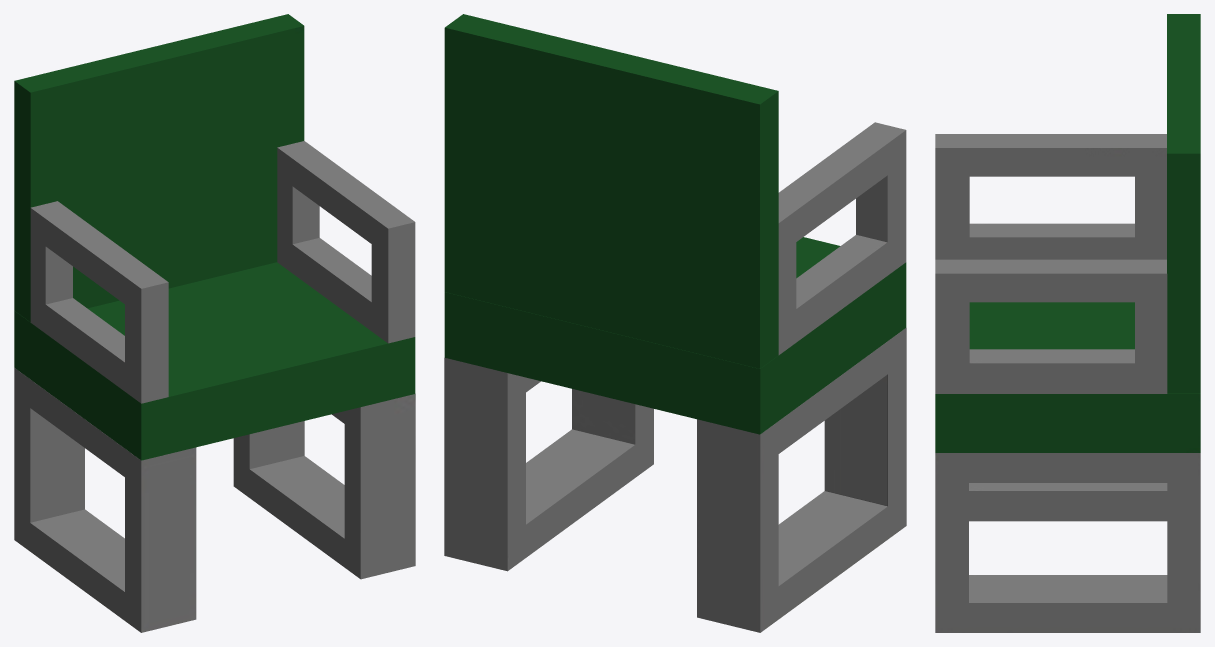
The model's file is cad_01.FBX.
3 views of the same model, side by side, from view 1: azimuth 30°, elevation 25°; view 2: azimuth 150°, elevation 25°; view 3: azimuth 270°, elevation 25° (orthographic). The views are drawn at different scales.
Parts seen in each view (by area): view 1: Cad_01; view 2: Cad_01; view 3: Cad_01.
Boxes of the visible parts, left/top/right/bottom form: Cad_01: left=14, top=14, right=415, bottom=632; Cad_01: left=444, top=14, right=906, bottom=632; Cad_01: left=935, top=14, right=1200, bottom=632.
Size of the model in its own units: 100 by 160 by 80.23.
1 material, 1 textured.
